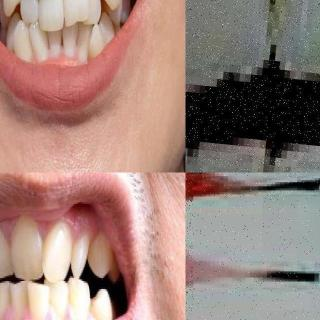maligned: (7, 217, 47, 281), (41, 222, 78, 278), (69, 230, 97, 278), (24, 278, 52, 320), (43, 281, 69, 320), (29, 20, 48, 62), (88, 24, 110, 60), (58, 0, 86, 28), (0, 228, 14, 280), (13, 20, 31, 60), (84, 0, 104, 21), (0, 0, 23, 14)
